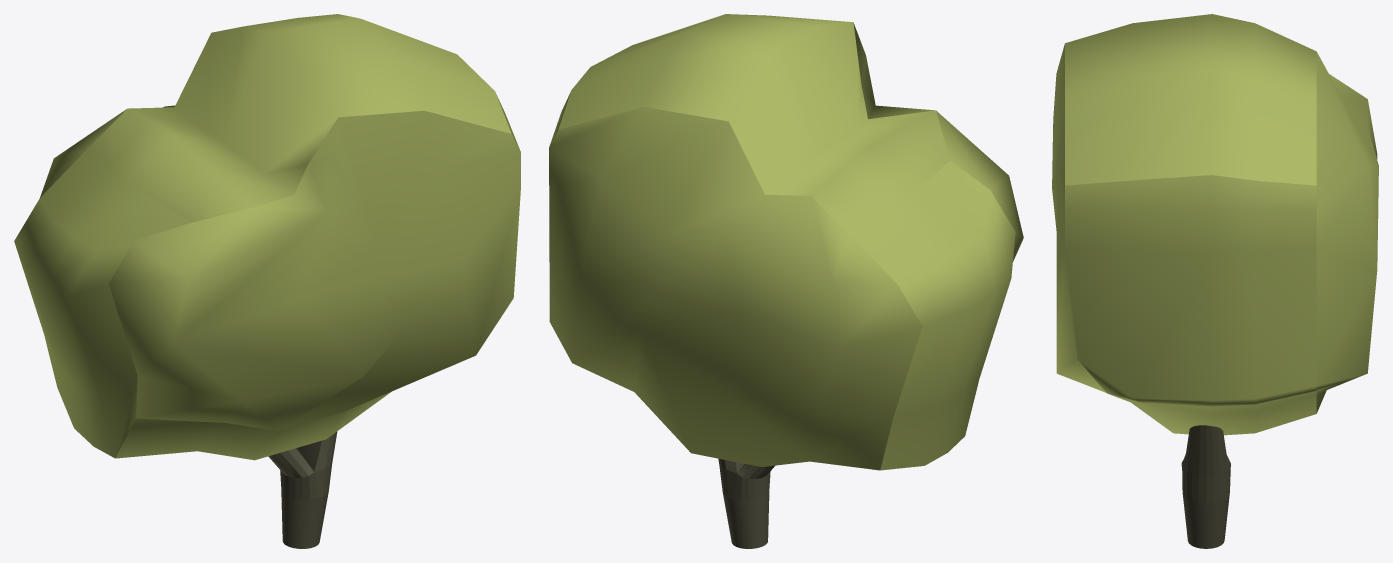
File: TreeTwoFBX.fbx
3 renders of one model, left to right at view 1: azimuth 30°, elevation 25°; view 2: azimuth 150°, elevation 25°; view 3: azimuth 270°, elevation 25°, orthographic.
Visible parts, largest first — view 1: pCube5, pCylinder4; view 2: pCube5, pCylinder4; view 3: pCube5, pCylinder4.
Boxes of the visible parts, x1=… form: pCube5: x1=14, y1=14, x2=520, y2=460; pCylinder4: x1=268, y1=431, x2=337, y2=548; pCube5: x1=549, y1=14, x2=1023, y2=470; pCylinder4: x1=718, y1=458, x2=774, y2=548; pCube5: x1=1052, y1=14, x2=1378, y2=435; pCylinder4: x1=1181, y1=425, x2=1230, y2=548.
Bounding box in the file's own units: 1.85 × 2.16 × 1.25.
